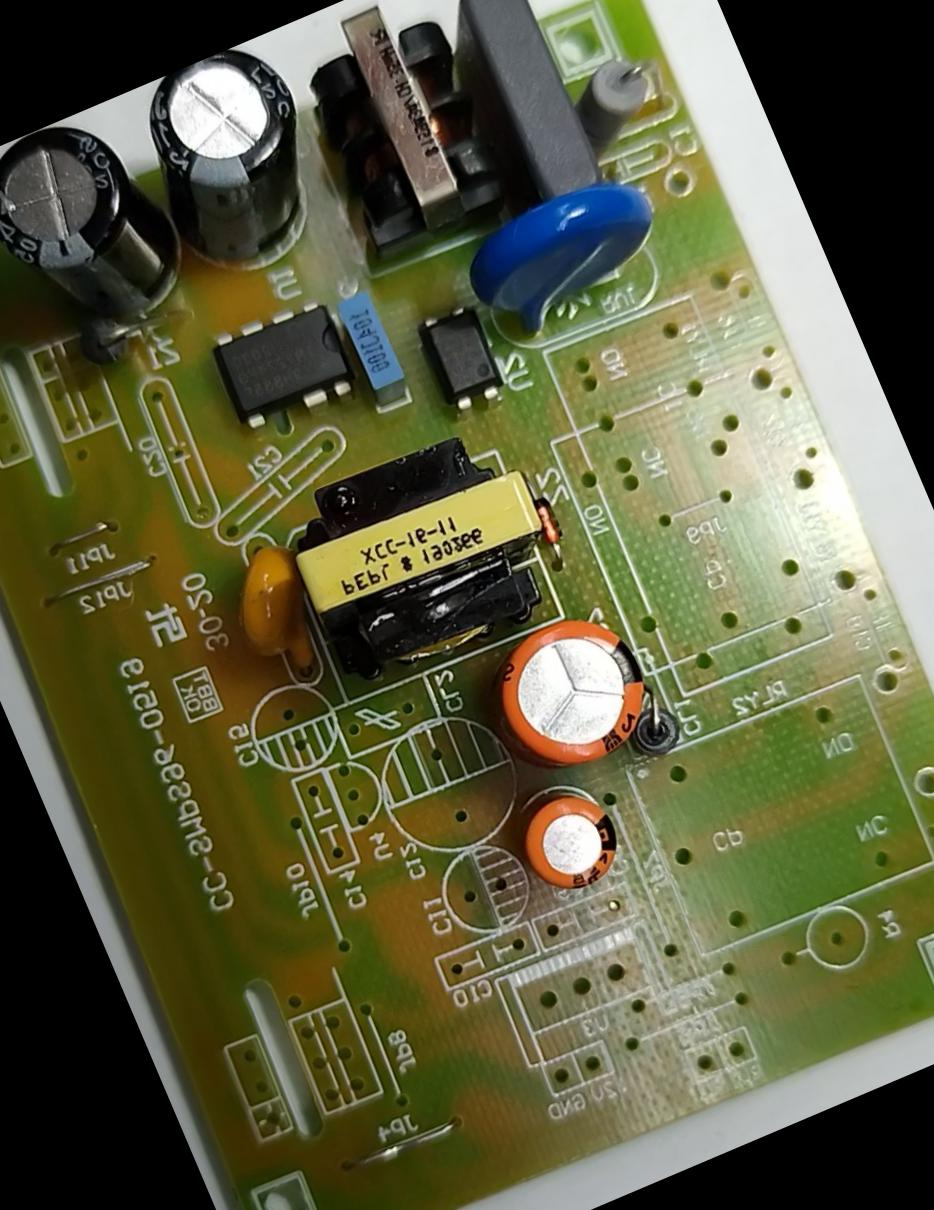Cap1: (480, 590, 677, 789)
Cap2: (510, 771, 638, 907)
Cap3: (122, 30, 358, 288)
Cap4: (0, 95, 205, 357)
MOSFET: (195, 280, 372, 444)
Mov: (446, 158, 687, 357)
Resistor: (550, 29, 672, 162)
Transformer: (266, 408, 582, 710), (274, 0, 532, 273)
